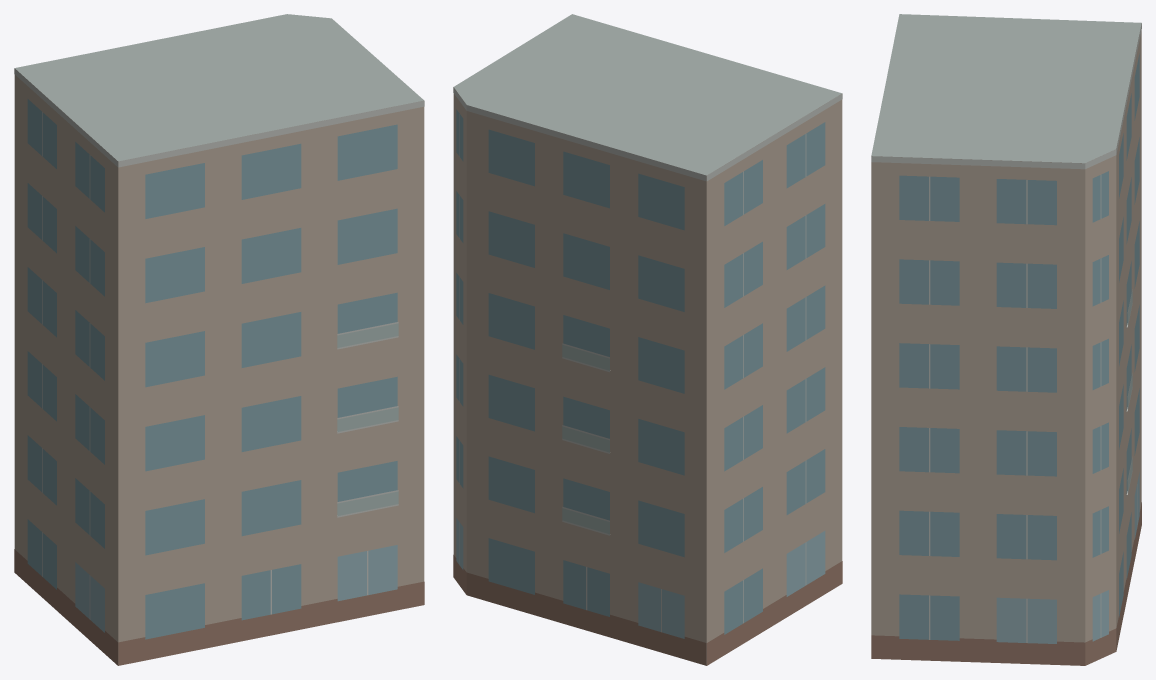
Rendered from survey-upis-32751917.glb.
The picture shows the model from 3 angles, left to right: view 1: azimuth 30°, elevation 25°; view 2: azimuth 150°, elevation 25°; view 3: azimuth 270°, elevation 25°; orthographic projection. The views are drawn at different scales.
Parts seen in each view (by area): view 1: survey-upis-32751917.tmp; view 2: survey-upis-32751917.tmp; view 3: survey-upis-32751917.tmp.
Part boxes in pixels (x1,y1,x2,y2): survey-upis-32751917.tmp: (14,14,424,665); survey-upis-32751917.tmp: (453,14,842,665); survey-upis-32751917.tmp: (871,14,1141,665).
Size of the model in its own units: 12.87 by 20.2 by 9.86.
